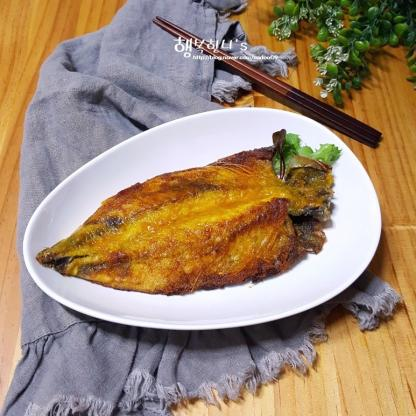Peixe: (33, 138, 333, 303)
